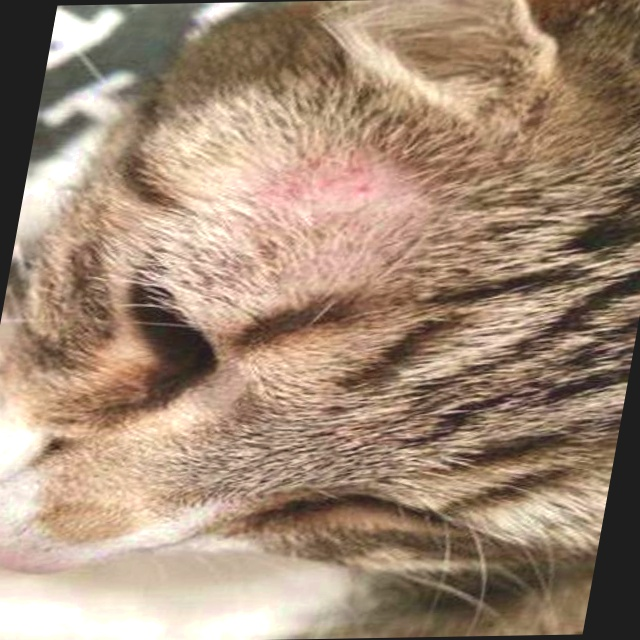ringworm: (211, 151, 435, 267)
